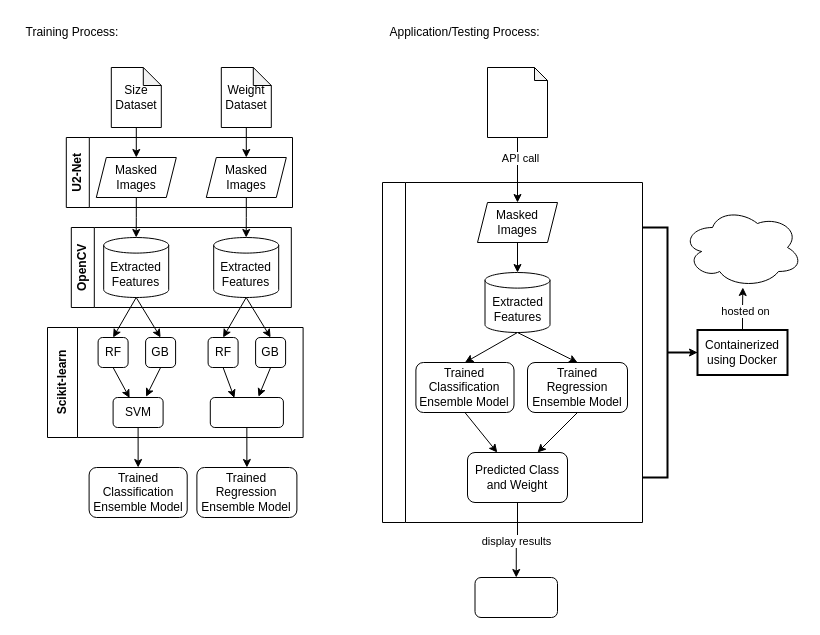
The diagram is 820 pixels wide and 635 high, and some of its shapes have lost their labels. The shapes that lost their labels are listed below. From the top down, each one's centre as x and y in pixels, then its label:
the point at 517,102: Milkfish Raw Image
the point at 742,247: AWS EC2 (Temporary)
the point at 512,352: FastAPI
the point at 246,412: Weighted Average
the point at 516,597: Prototype Mobile App
